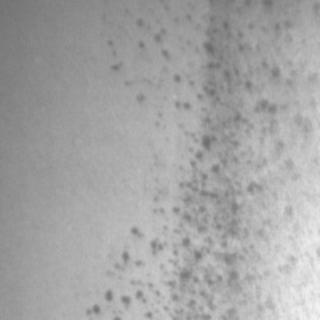pitted_surface: (88, 1, 294, 316)
